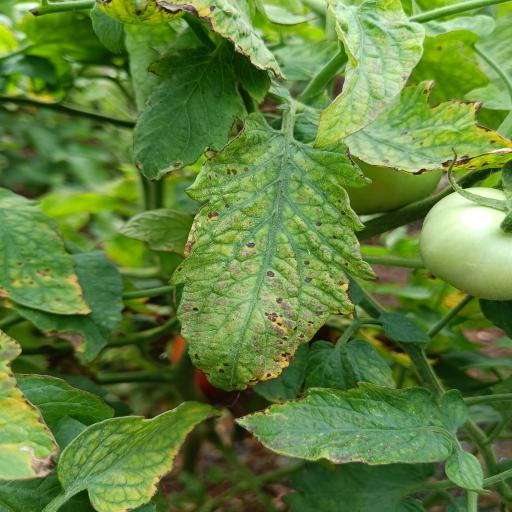Early Blight: (166, 110, 377, 394)
